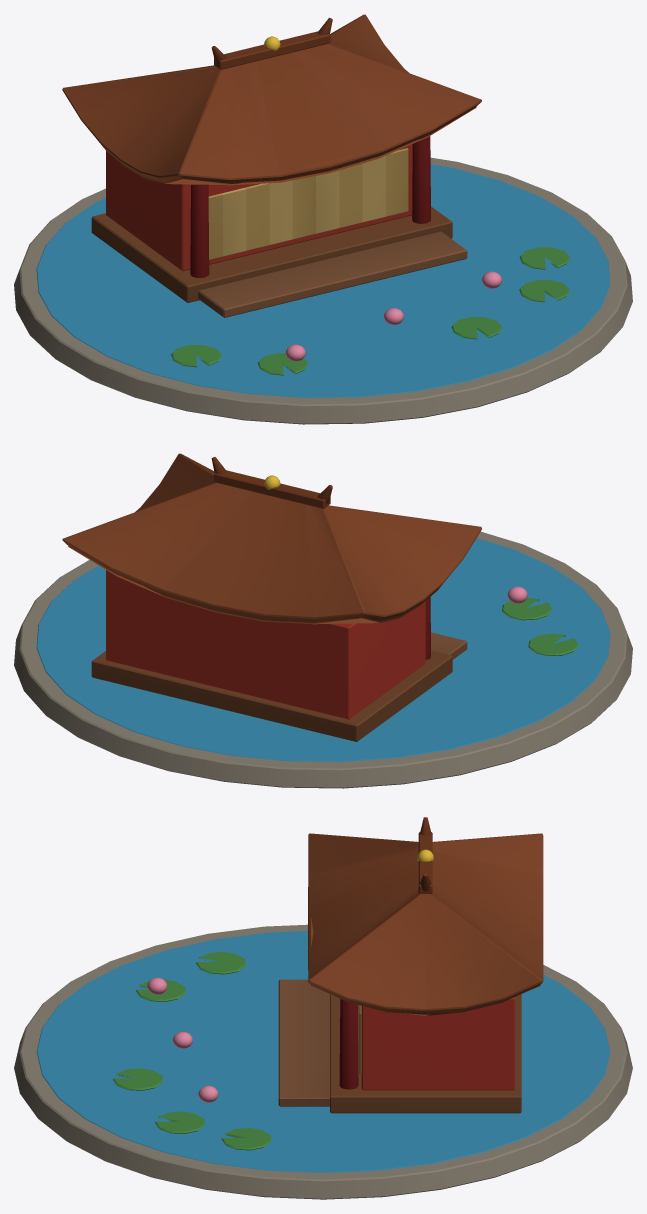
The model's file is lm-puppetstage.glb.
3 views of the same model, one above another, from view 1: azimuth 30°, elevation 25°; view 2: azimuth 150°, elevation 25°; view 3: azimuth 270°, elevation 25° (orthographic).
Bounding box in the file's own units: 9.69 × 3.87 × 9.69.
